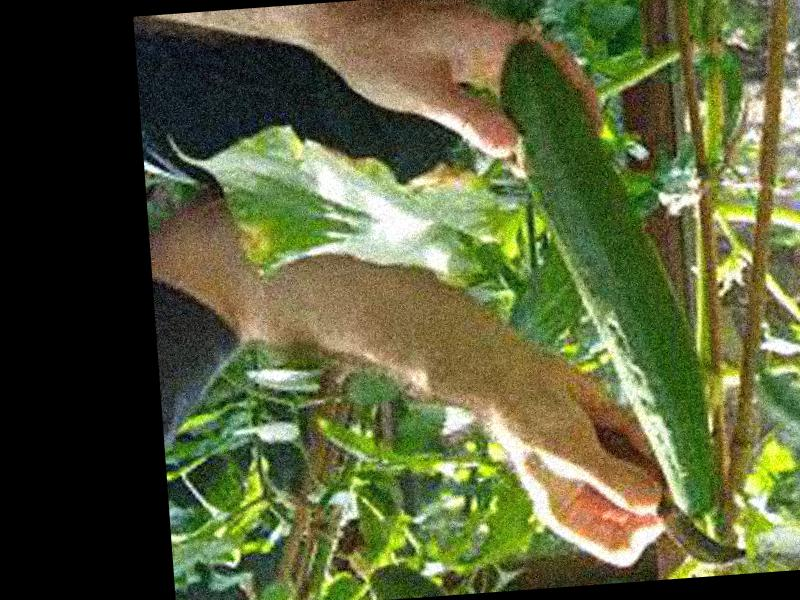Cucumber: (498, 28, 721, 526)
